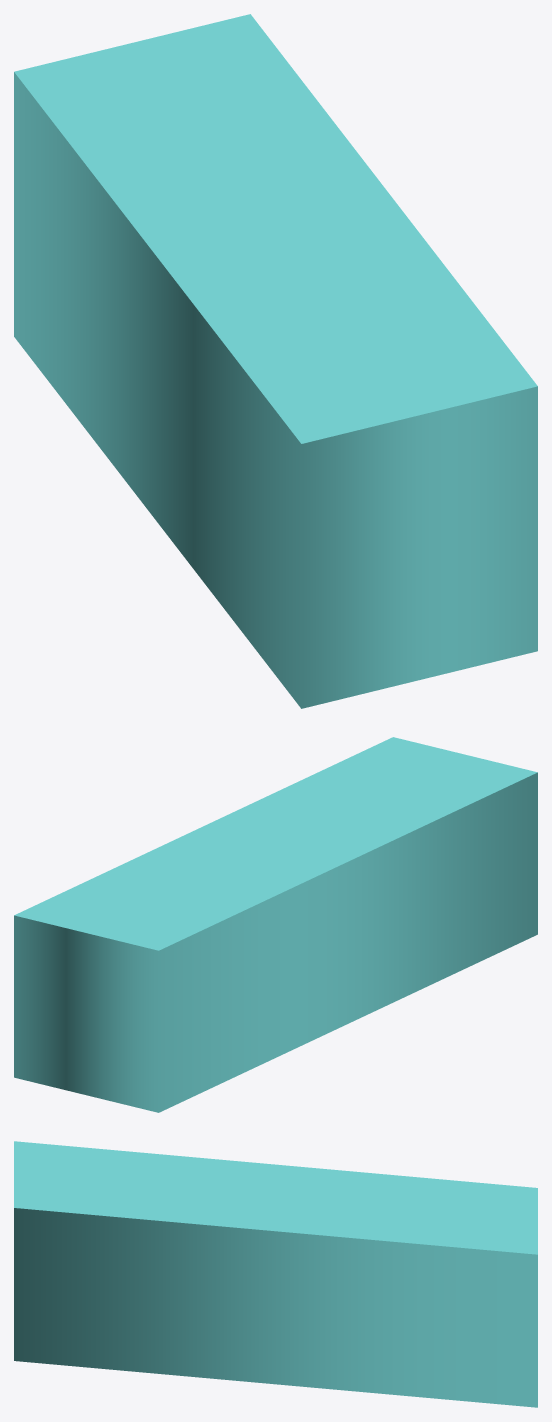
3 renders of one model, top to bottom at view 1: azimuth 30°, elevation 25°; view 2: azimuth 150°, elevation 25°; view 3: azimuth 270°, elevation 25°, orthographic. The views are drawn at different scales.
Visible parts, largest first — view 1: I; view 2: I; view 3: I.
Boxes of the visible parts, left/top/right/bottom form: I: left=14, top=14, right=537, bottom=708; I: left=14, top=737, right=537, bottom=1112; I: left=14, top=1141, right=537, bottom=1407.
Bounding box in the file's own units: 25.44 × 16 × 49.64.
